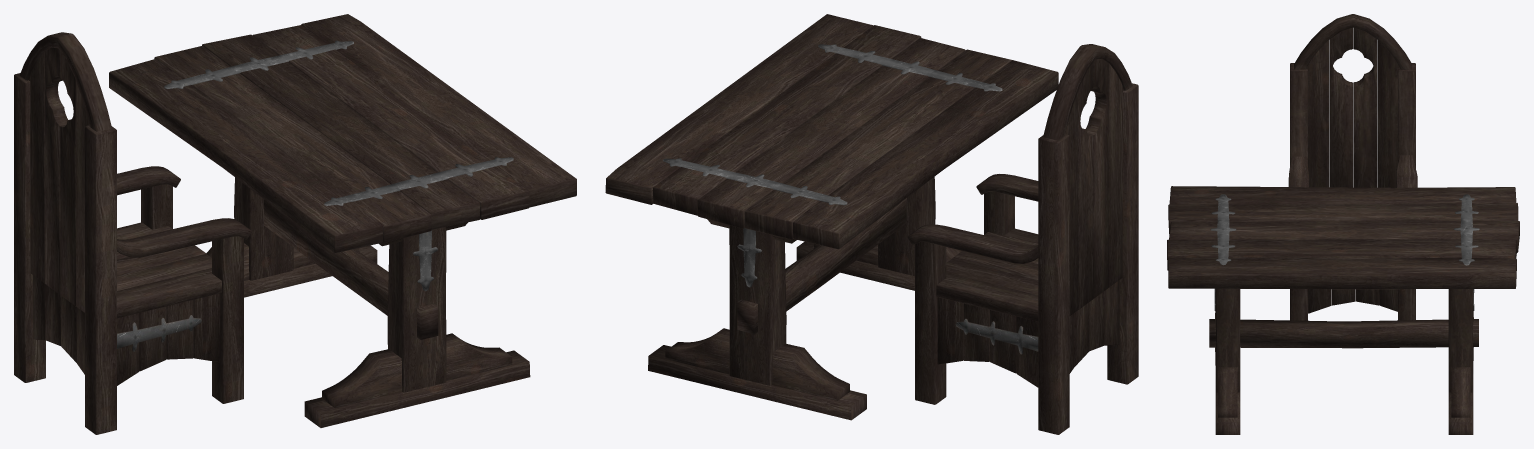
Rendered from Table&ChairSketch.fbx.
3 views of the same model, side by side, from view 1: azimuth 30°, elevation 25°; view 2: azimuth 150°, elevation 25°; view 3: azimuth 270°, elevation 25° (orthographic). The views are drawn at different scales.
Visible parts, largest first — view 1: Table_U4, Chair_U4; view 2: Table_U4, Chair_U4; view 3: Table_U4, Chair_U4.
Part boxes in pixels (bbox=[...]): Table_U4: bbox=[109, 14, 576, 427]; Chair_U4: bbox=[14, 32, 251, 434]; Table_U4: bbox=[605, 14, 1058, 420]; Chair_U4: bbox=[907, 44, 1138, 434]; Table_U4: bbox=[1167, 186, 1519, 434]; Chair_U4: bbox=[1288, 14, 1417, 320].
Size of the model in its own units: 148 by 129 by 148.
